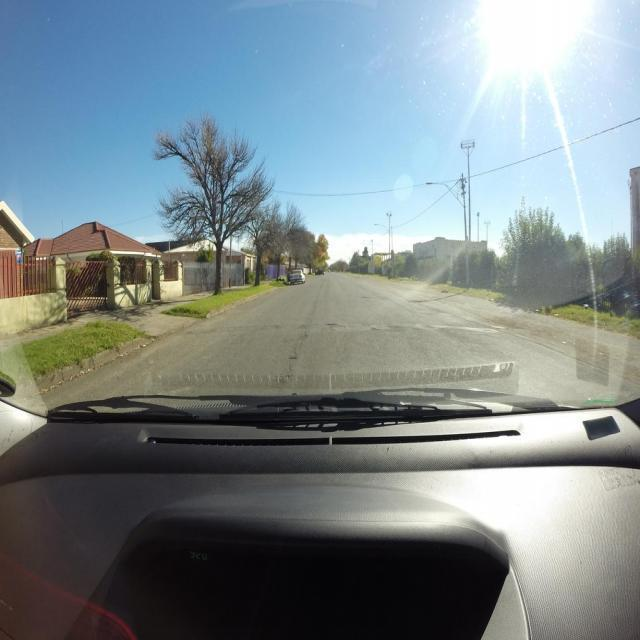pothole: (325, 322, 339, 326)
